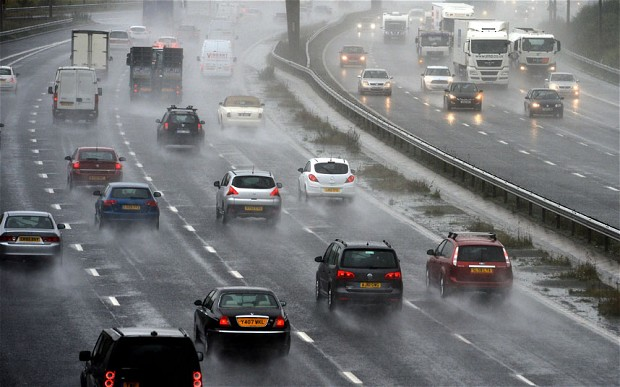car: (78, 324, 202, 386), (190, 285, 289, 358), (313, 238, 403, 309), (424, 230, 513, 300), (214, 168, 283, 224), (1, 210, 63, 259), (51, 64, 98, 123), (296, 155, 355, 199), (96, 182, 159, 223), (67, 145, 122, 182), (216, 92, 263, 134), (195, 40, 237, 83), (156, 108, 204, 142), (523, 88, 565, 118), (442, 81, 482, 111), (357, 67, 393, 95), (206, 21, 239, 51), (546, 71, 579, 98), (420, 65, 452, 91), (214, 0, 243, 26), (337, 44, 367, 67), (0, 65, 17, 92), (108, 30, 129, 51), (178, 24, 200, 39), (357, 16, 376, 33), (130, 26, 150, 40), (156, 35, 181, 46)
truck: (445, 19, 510, 86), (128, 49, 182, 102), (510, 28, 561, 72), (71, 29, 111, 83), (430, 2, 468, 47), (141, 1, 187, 34), (414, 29, 449, 70), (382, 10, 409, 46)
